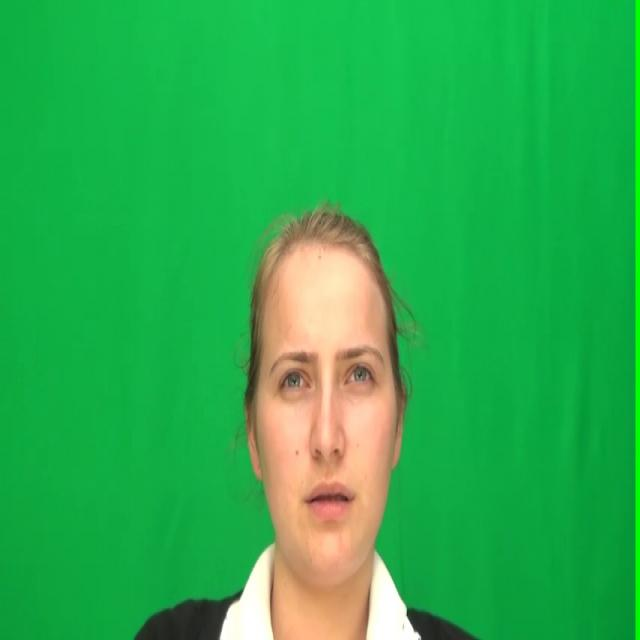Boredom: (254, 253, 393, 571)
